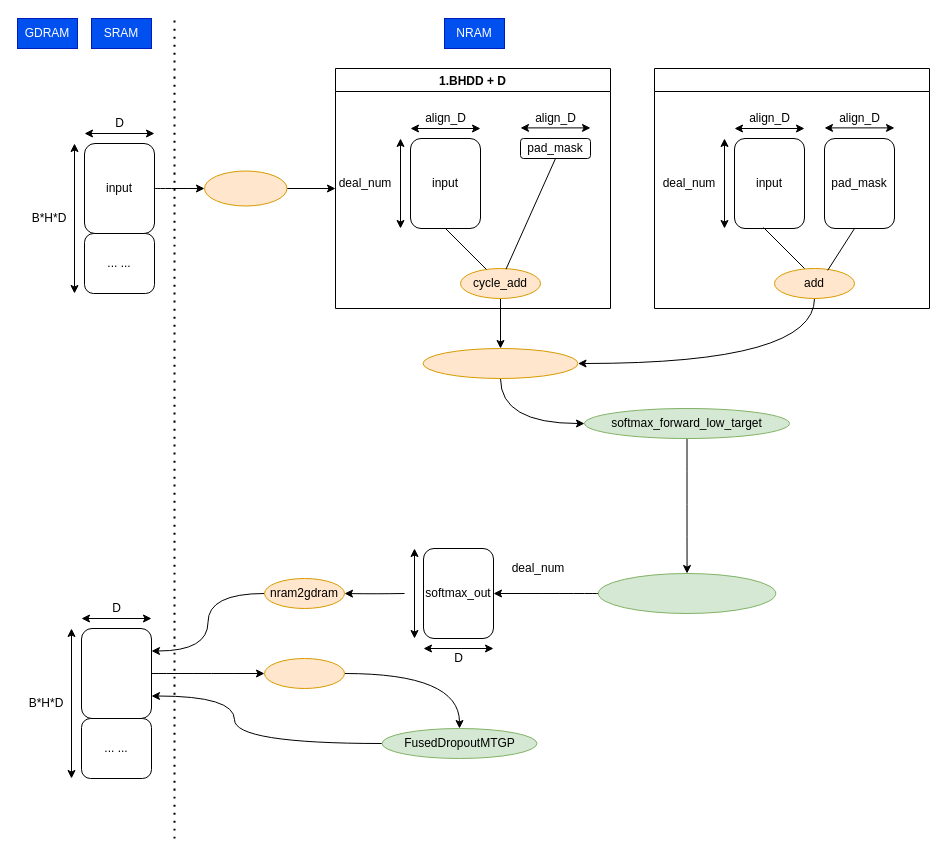
The diagram is 947 pixels wide and 857 high, and some of its shapes have lost their labels. Each missing label, with the box of its shape:
2.BHDD + BHDD: (654, 68, 930, 308)
gdram2nram: (264, 658, 344, 688)
output: (80, 628, 152, 718)
trans.tiling (D->alignD): (204, 170, 287, 206)
trans.tiling(.cvt.f16.f32: (597, 572, 776, 614)
trans.tiling(.cvt.f32.f16): (422, 348, 578, 378)
